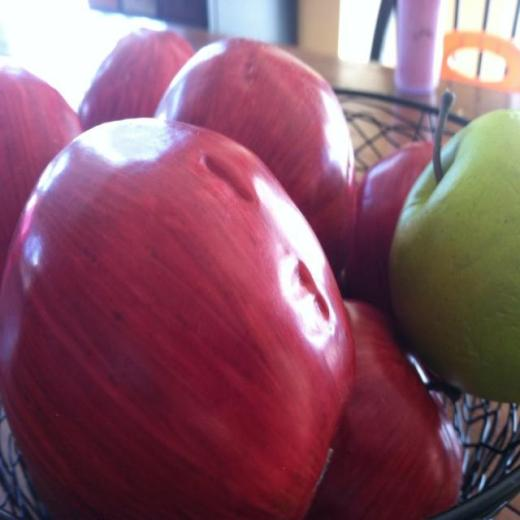Apple: (0, 27, 520, 520)
